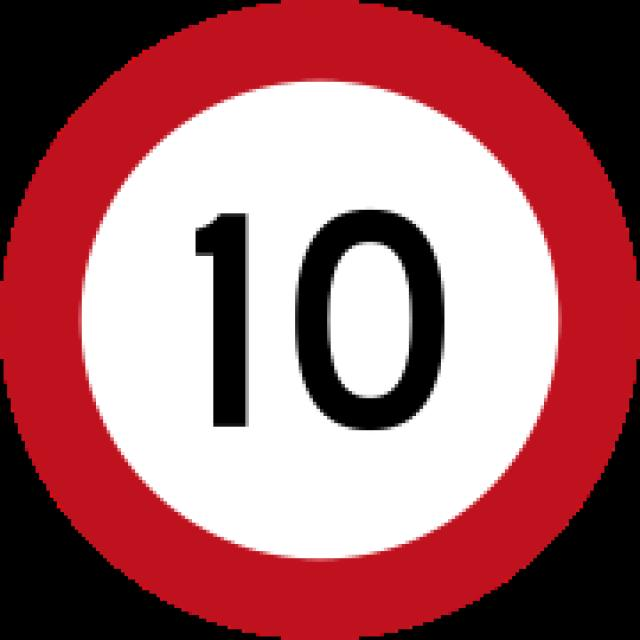Speed Limit -10-: (183, 200, 454, 453)
